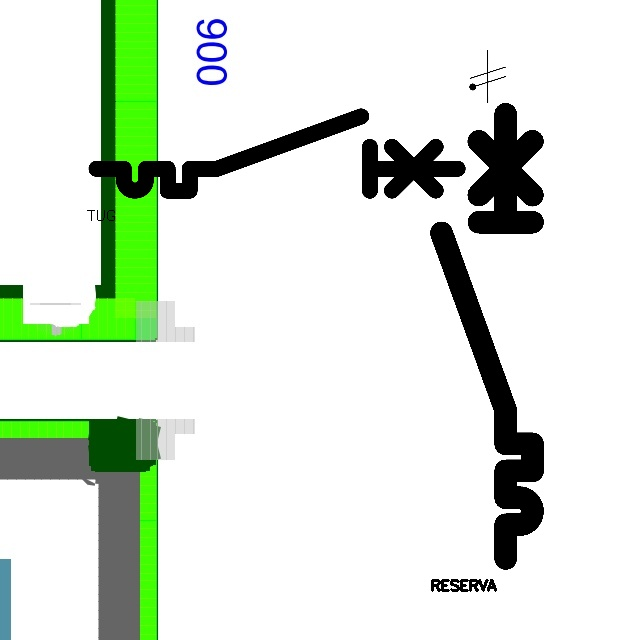interruptor_termomagnetico: (430, 102, 544, 569), (87, 107, 467, 200)
